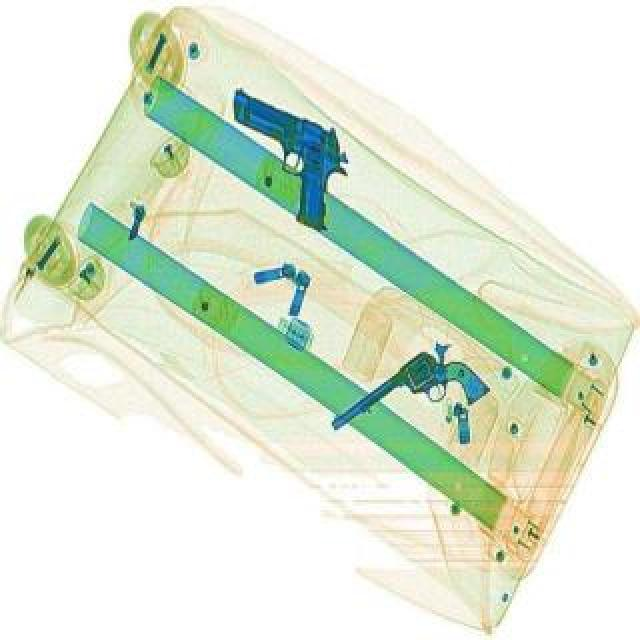gun: (192, 88, 366, 232), (324, 334, 490, 474)
